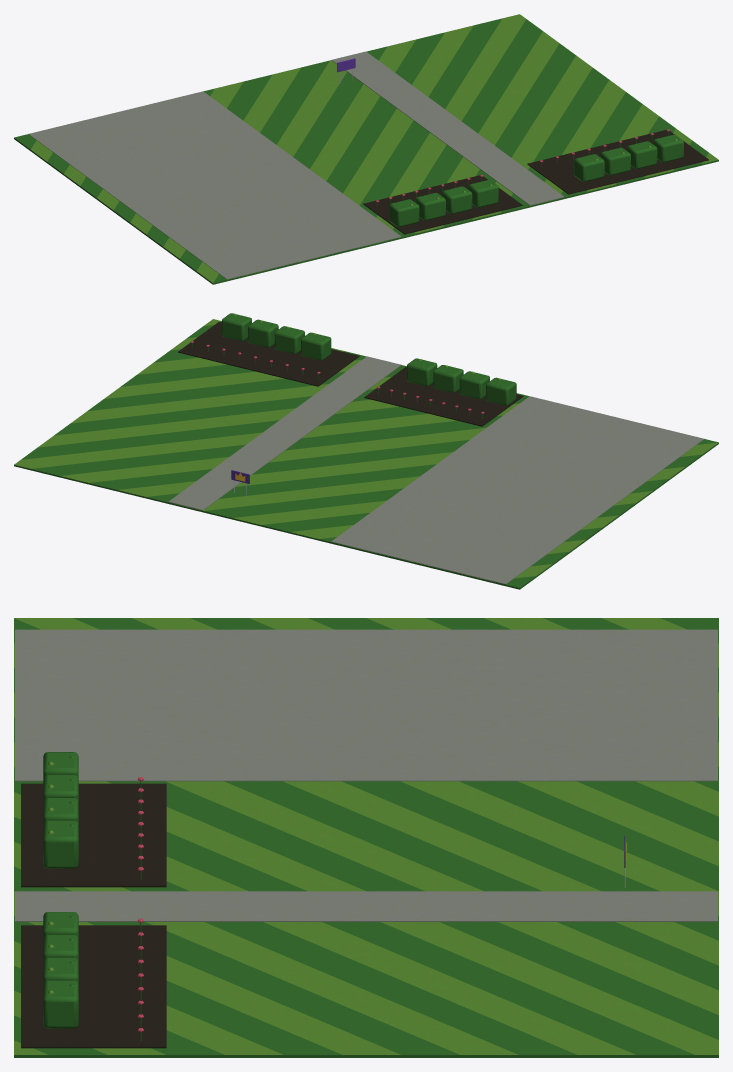
The model's file is GloriaYard_Stage2.gltf.
The picture shows the model from 3 angles, top to bottom: view 1: azimuth 30°, elevation 25°; view 2: azimuth 150°, elevation 25°; view 3: azimuth 270°, elevation 25°; orthographic projection. The views are drawn at different scales.
Visible parts, largest first — view 1: GloriaYard_Stage2__Body, GloriaYard_Stage2__Lawn; view 2: GloriaYard_Stage2__Body, GloriaYard_Stage2__Lawn; view 3: GloriaYard_Stage2__Body, GloriaYard_Stage2__Lawn.
Boxes of the visible parts, bbox=[...] form: GloriaYard_Stage2__Body: bbox=[28, 51, 708, 279]; GloriaYard_Stage2__Lawn: bbox=[14, 14, 718, 284]; GloriaYard_Stage2__Body: bbox=[168, 313, 704, 584]; GloriaYard_Stage2__Lawn: bbox=[14, 319, 718, 589]; GloriaYard_Stage2__Body: bbox=[15, 629, 717, 1048]; GloriaYard_Stage2__Lawn: bbox=[14, 618, 718, 1057].
Bounding box in the file's own units: 12.32 × 0.5482 × 8.4.
1 material, 1 textured.
